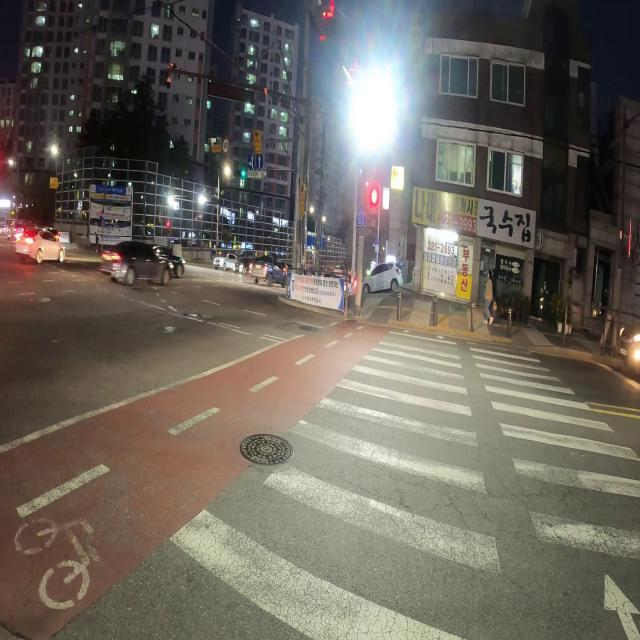crosswalk: (166, 326, 639, 639)
